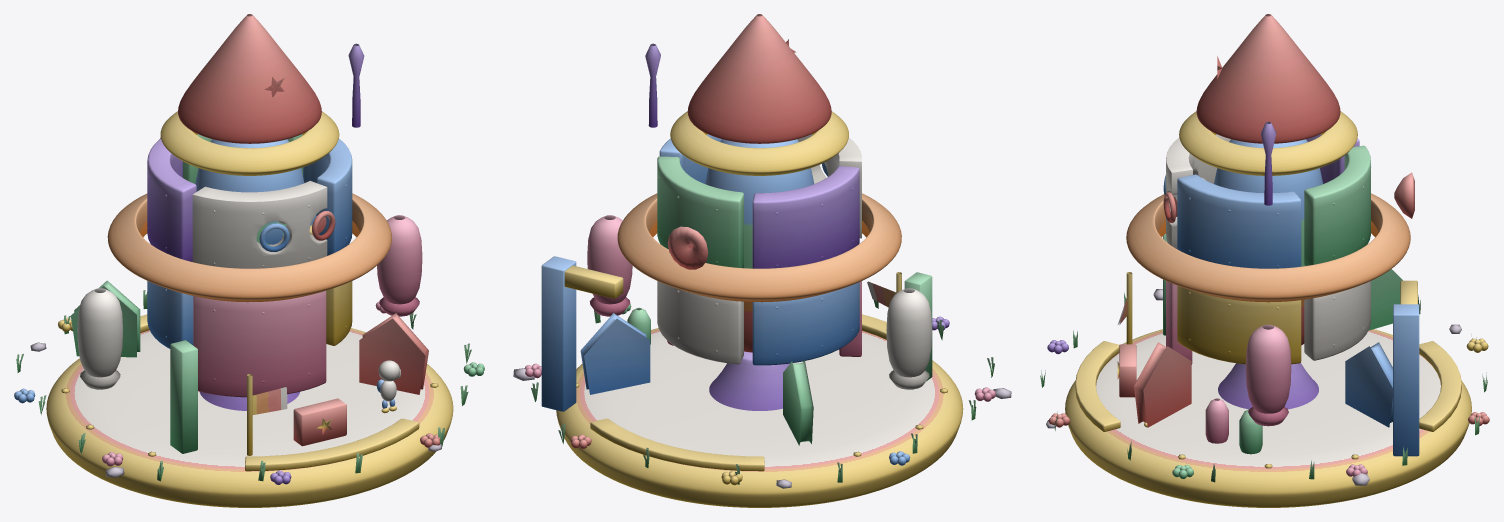
Rendered from rocket.glb.
3 views of the same model, side by side, from view 1: azimuth 30°, elevation 25°; view 2: azimuth 150°, elevation 25°; view 3: azimuth 270°, elevation 25° (orthographic).
Visible parts, largest first — view 1: static, lo0, band, nose, up0, collar, up3, boostL, fin0, boostR, up1, ladder (+10 smaller); view 2: static, nose, band, up3, lo3, up2, collar, lo2, gantry, fin1, boostL, core (+10 smaller); view 3: static, band, nose, up1, lo1, up2, collar, gantry, boostR, lo2, fin0, fin1 (+14 smaller).
Boxes of the visible parts, box(x1,y1,x2,y2) form: static: box(14, 290, 484, 507); lo0: box(193, 291, 326, 397); band: box(107, 193, 391, 302); nose: box(178, 14, 321, 143); up0: box(192, 181, 327, 268); collar: box(160, 111, 339, 175); up3: box(147, 138, 196, 261); boostL: box(77, 288, 122, 389); fin0: box(359, 313, 428, 394); boostR: box(377, 215, 422, 316); up1: box(303, 138, 352, 255); ladder: box(170, 340, 197, 453); static: box(513, 300, 1011, 507); nose: box(687, 14, 831, 143); band: box(617, 193, 901, 302); up3: box(752, 166, 859, 268); lo3: box(752, 282, 859, 365); up2: box(657, 156, 743, 268); collar: box(670, 111, 848, 175); lo2: box(657, 281, 743, 364); gantry: box(541, 256, 576, 411); fin1: box(580, 313, 650, 394); boostL: box(886, 288, 932, 389); core: box(705, 139, 814, 352); static: box(1040, 289, 1489, 507); band: box(1126, 193, 1410, 302); nose: box(1196, 14, 1340, 143); up1: box(1177, 174, 1301, 268); lo1: box(1177, 285, 1301, 364); up2: box(1304, 145, 1371, 265); collar: box(1179, 111, 1357, 175); gantry: box(1393, 304, 1419, 456); boostR: box(1245, 324, 1291, 426); lo2: box(1304, 281, 1371, 360); fin0: box(1134, 342, 1191, 427); fin1: box(1345, 342, 1392, 427).
Size of the model in its own units: 3.13 by 3.16 by 3.07.
Materials: 1 (1 with a texture image).
